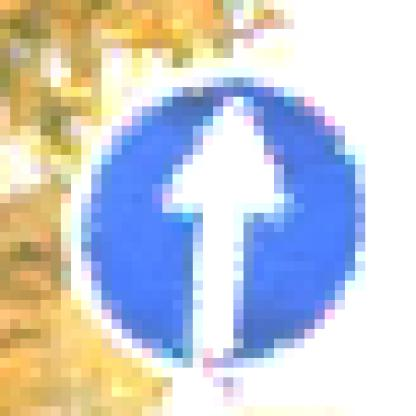AheadOnly: (62, 59, 366, 369)
